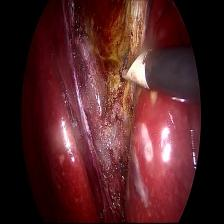Hook: (112, 43, 154, 95)
